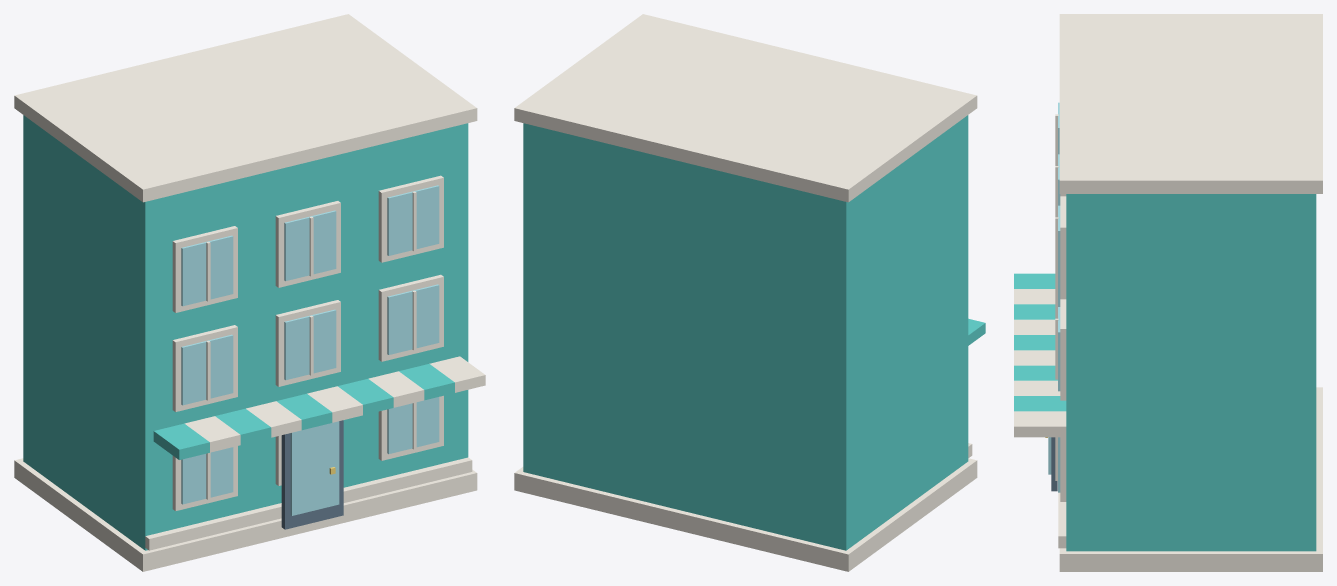
The model's file is 05_shop_teal.glb.
3 renders of one model, left to right at view 1: azimuth 30°, elevation 25°; view 2: azimuth 150°, elevation 25°; view 3: azimuth 270°, elevation 25°, orthographic. The views are drawn at different scales.
Visible parts, largest first — view 1: 05_shop_teal; view 2: 05_shop_teal; view 3: 05_shop_teal.
Part boxes in pixels (x1,y1,x2,y2): 05_shop_teal: (14, 14, 485, 571); 05_shop_teal: (514, 14, 985, 571); 05_shop_teal: (1014, 14, 1322, 571).
Size of the model in its own units: 6 by 6.56 by 4.7.
